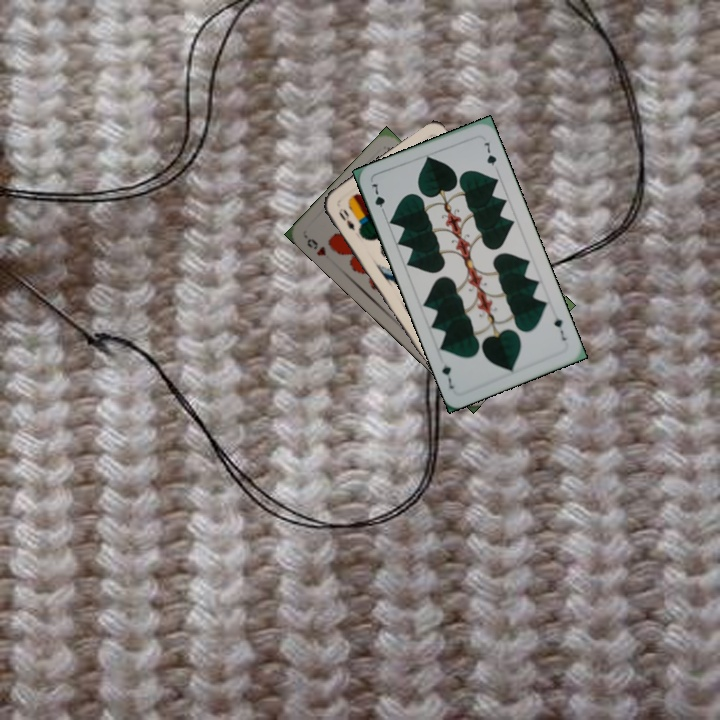EO: (334, 204, 358, 233)
G7: (367, 179, 388, 218), (550, 309, 569, 343)
H9: (302, 234, 329, 259)
